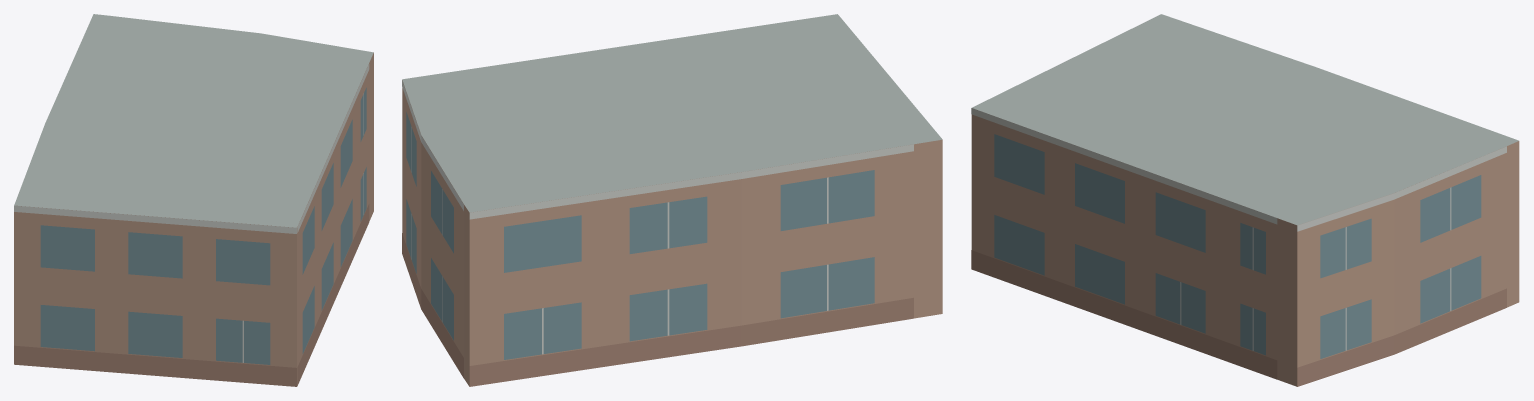
The model's file is survey-upis-32779308.glb.
3 renders of one model, left to right at view 1: azimuth 30°, elevation 25°; view 2: azimuth 150°, elevation 25°; view 3: azimuth 270°, elevation 25°, orthographic. The views are drawn at different scales.
Visible parts, largest first — view 1: survey-upis-32779308.tmp; view 2: survey-upis-32779308.tmp; view 3: survey-upis-32779308.tmp.
Boxes of the visible parts, x1=… form: survey-upis-32779308.tmp: x1=14, y1=14, x2=373, y2=386; survey-upis-32779308.tmp: x1=402, y1=14, x2=942, y2=386; survey-upis-32779308.tmp: x1=971, y1=14, x2=1519, y2=386.
Size of the model in its own units: 17.13 by 6.1 by 18.76.
